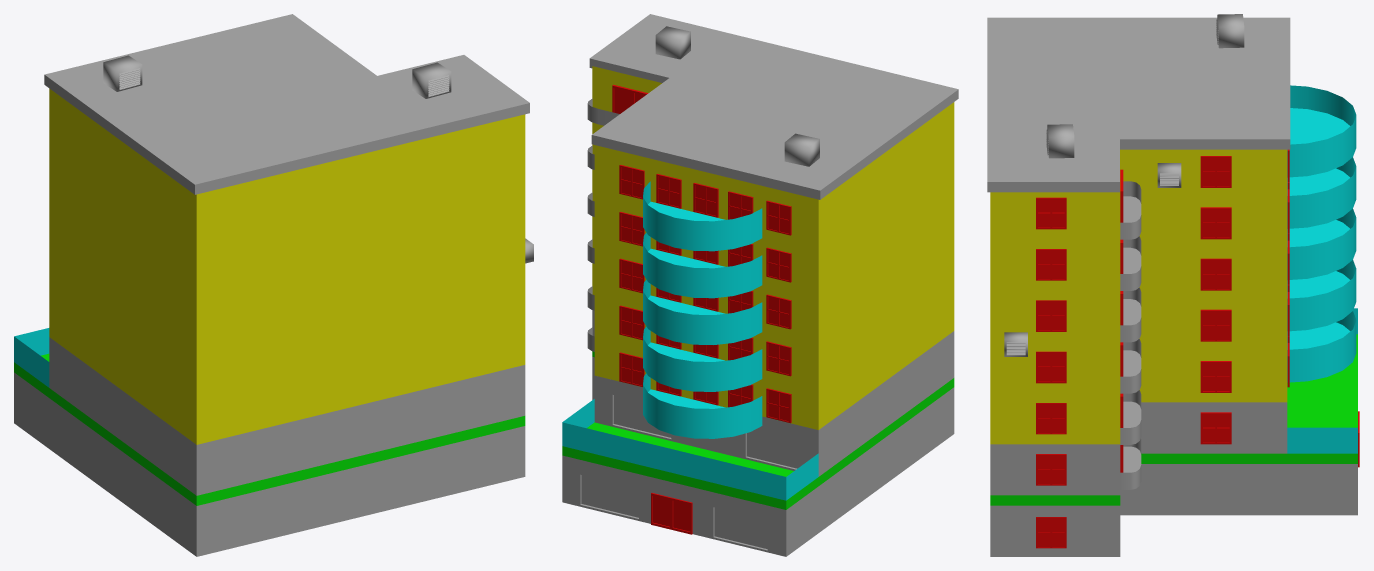
File: Hotel_4_PreBuilt_2.fbx
3 renders of one model, left to right at view 1: azimuth 30°, elevation 25°; view 2: azimuth 150°, elevation 25°; view 3: azimuth 270°, elevation 25°, orthographic. The views are drawn at different scales.
Parts seen in each view (by area): view 1: polySurface70; view 2: polySurface70; view 3: polySurface70.
Boxes of the visible parts, x1,y1,x2,y2 form: polySurface70: (14, 14, 533, 556); polySurface70: (562, 14, 958, 556); polySurface70: (987, 14, 1359, 556).
Size of the model in its own units: 2862 by 3102 by 2634.
